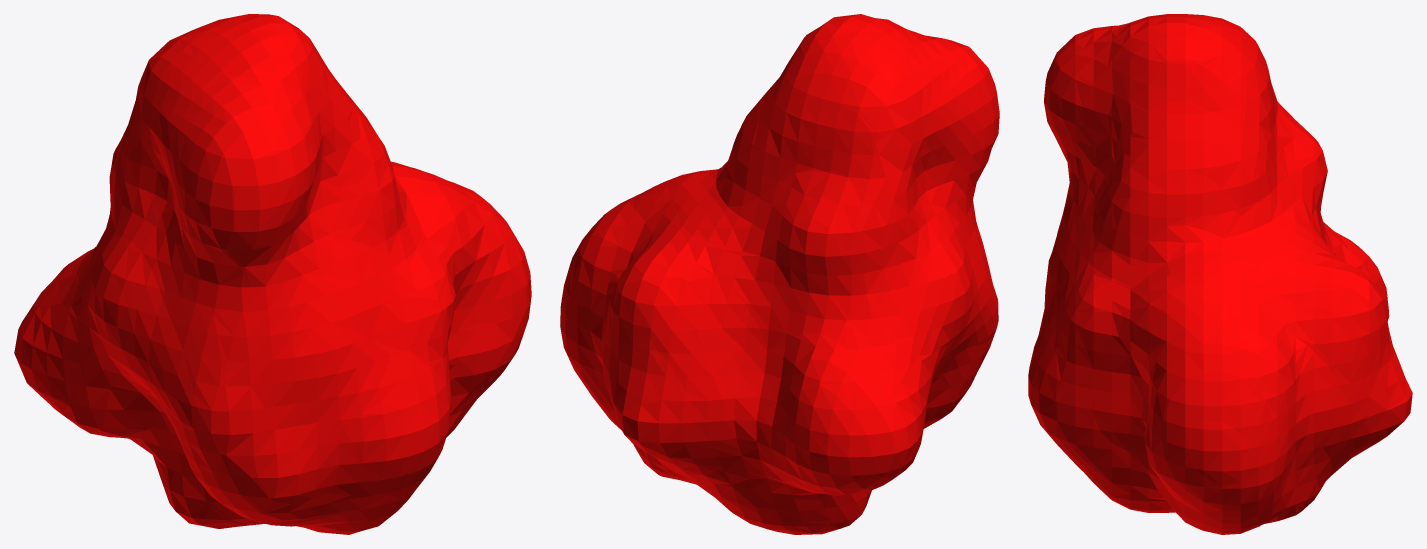
Rendered from yjbR_coarse.dae.
3 views of the same model, side by side, from view 1: azimuth 30°, elevation 25°; view 2: azimuth 150°, elevation 25°; view 3: azimuth 270°, elevation 25° (orthographic). The views are drawn at different scales.
Parts seen in each view (by area): view 1: yjbR; view 2: yjbR; view 3: yjbR.
Boxes of the visible parts, x1=… form: yjbR: x1=14, y1=14, x2=531, y2=534; yjbR: x1=560, y1=14, x2=999, y2=534; yjbR: x1=1028, y1=14, x2=1412, y2=534.
Bounding box in the file's own units: 41.25 × 47.9 × 35.31.
